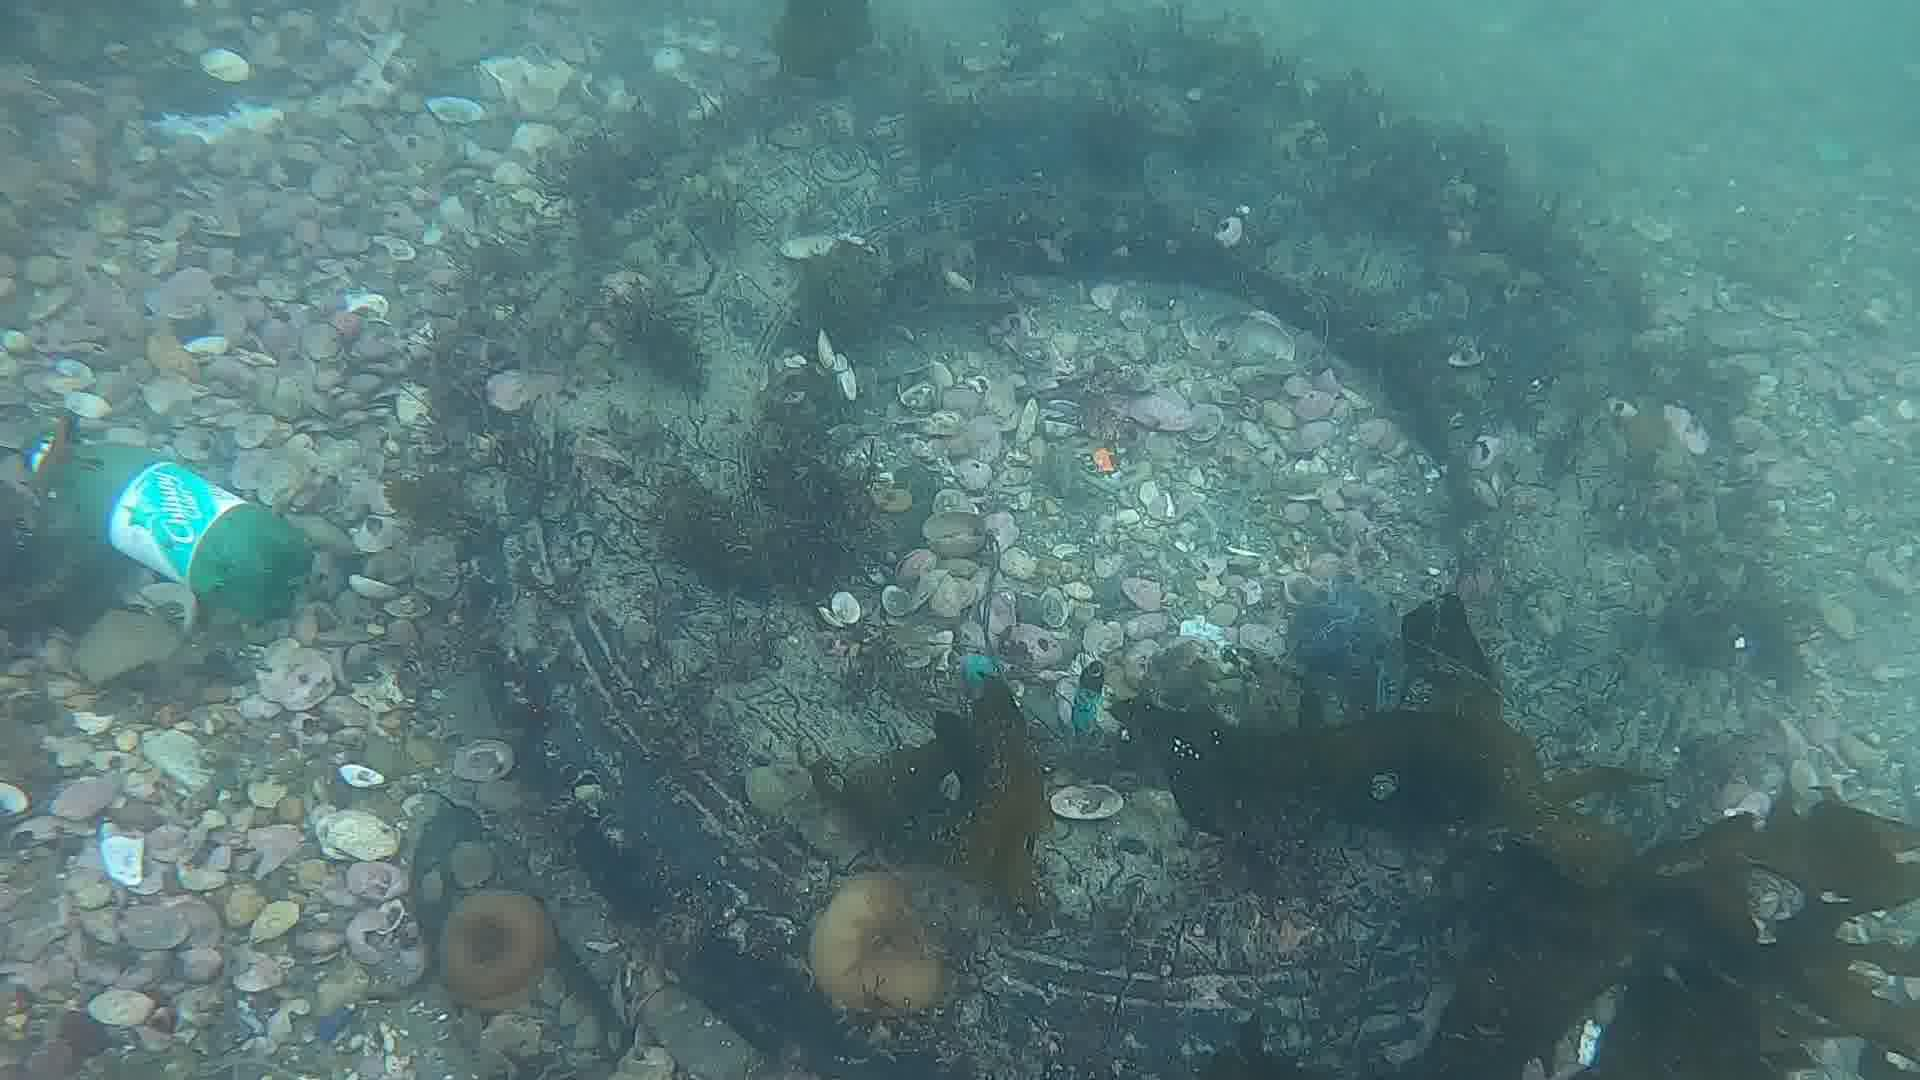tire: (479, 61, 1717, 1079)
